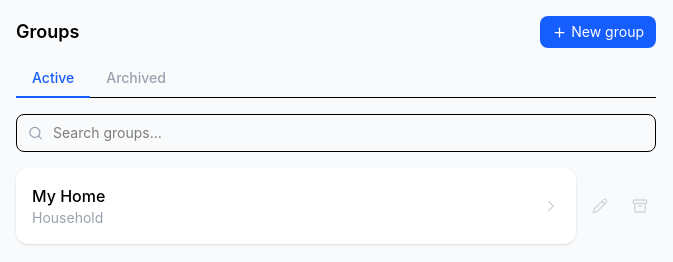
Test: GroupsPage › archived tab › shows delete button only for super_admin on archived tab
Click the button "archived" at (136, 79), box [90,60,182,98]
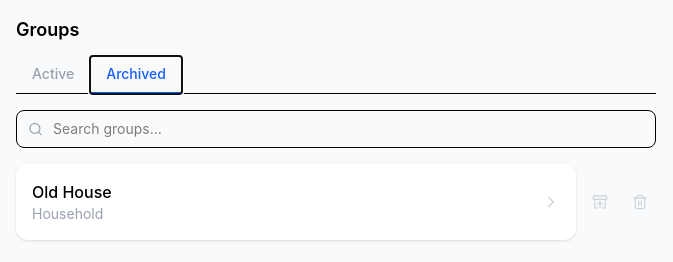
expect the text "Old House" is shown: met, box [32,180,112,204]
expect the button titled "Delete permanently" is shown: met, box [624,186,656,218]
